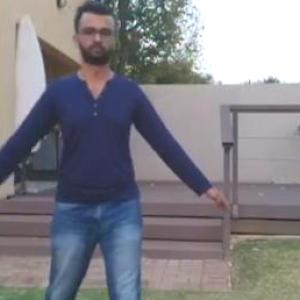land: (0, 30, 205, 299)
